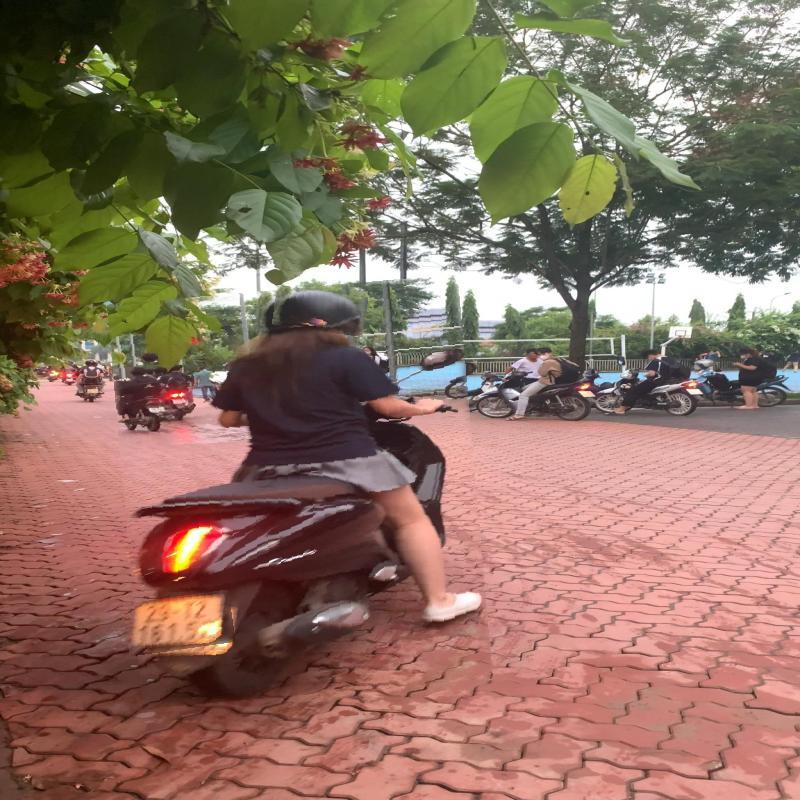helmet: (272, 288, 368, 334)
licenseplate: (123, 592, 234, 652)
motorcyclist: (115, 281, 485, 702)
nohelmet: (141, 353, 158, 362)
